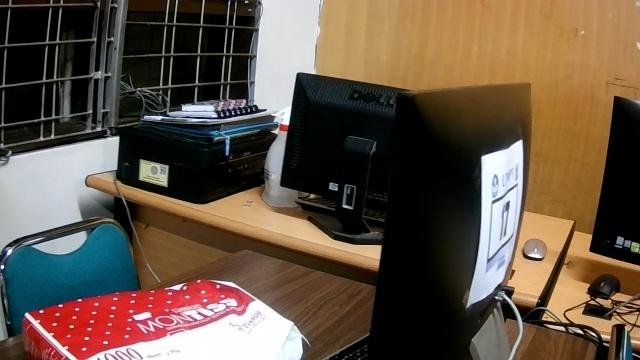AIO PC-Monitor-TV: (365, 80, 531, 359)
Meja: (83, 167, 380, 276)
